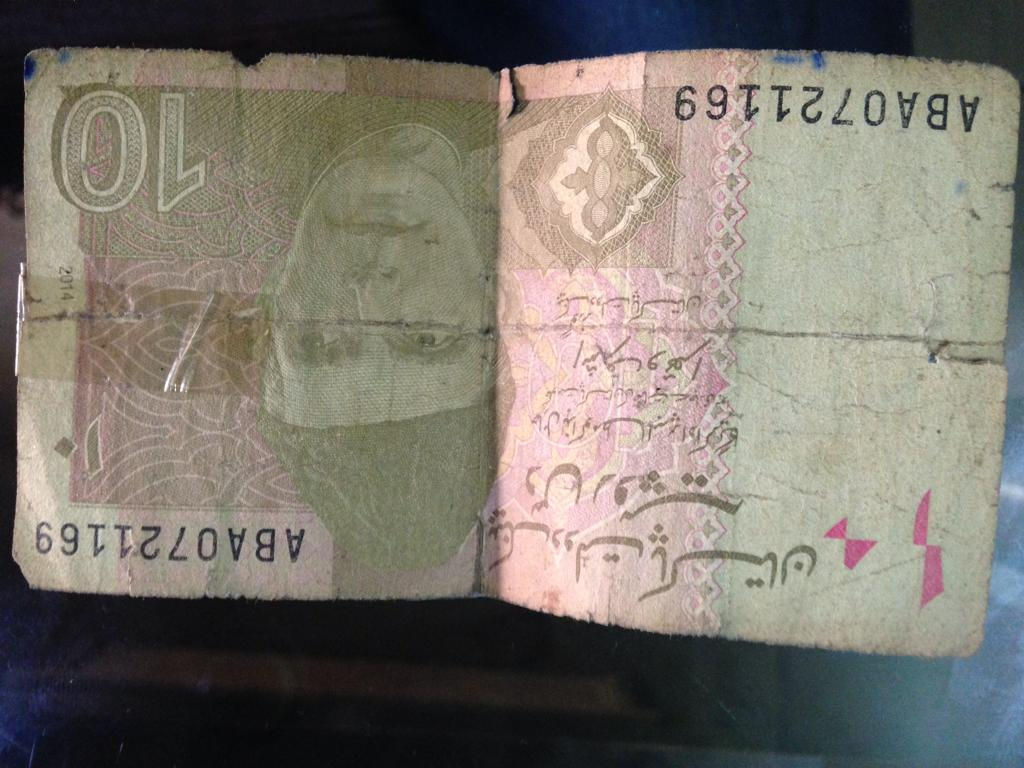10 rupee: (19, 31, 996, 675)
